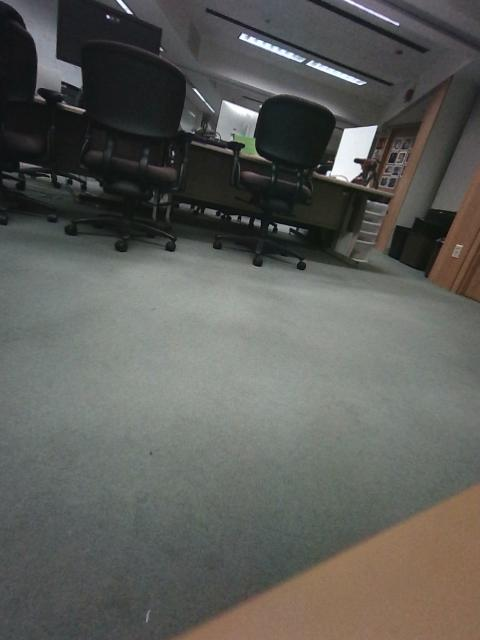block: (1, 259, 55, 290)
